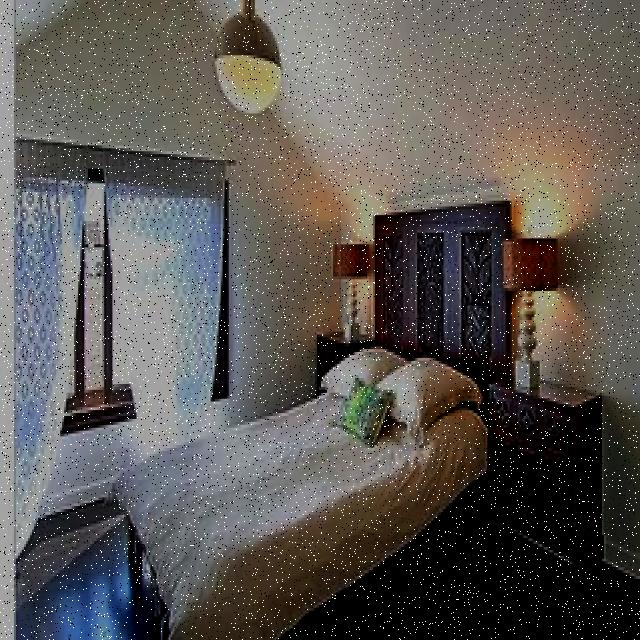bed: (127, 193, 519, 640)
